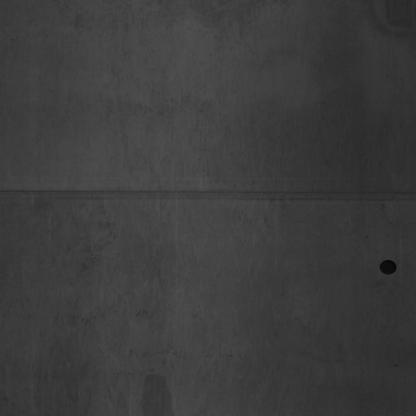punching_hole: (378, 257, 400, 282)
silk_spot: (39, 232, 181, 409)
welding_line: (2, 173, 413, 212)
